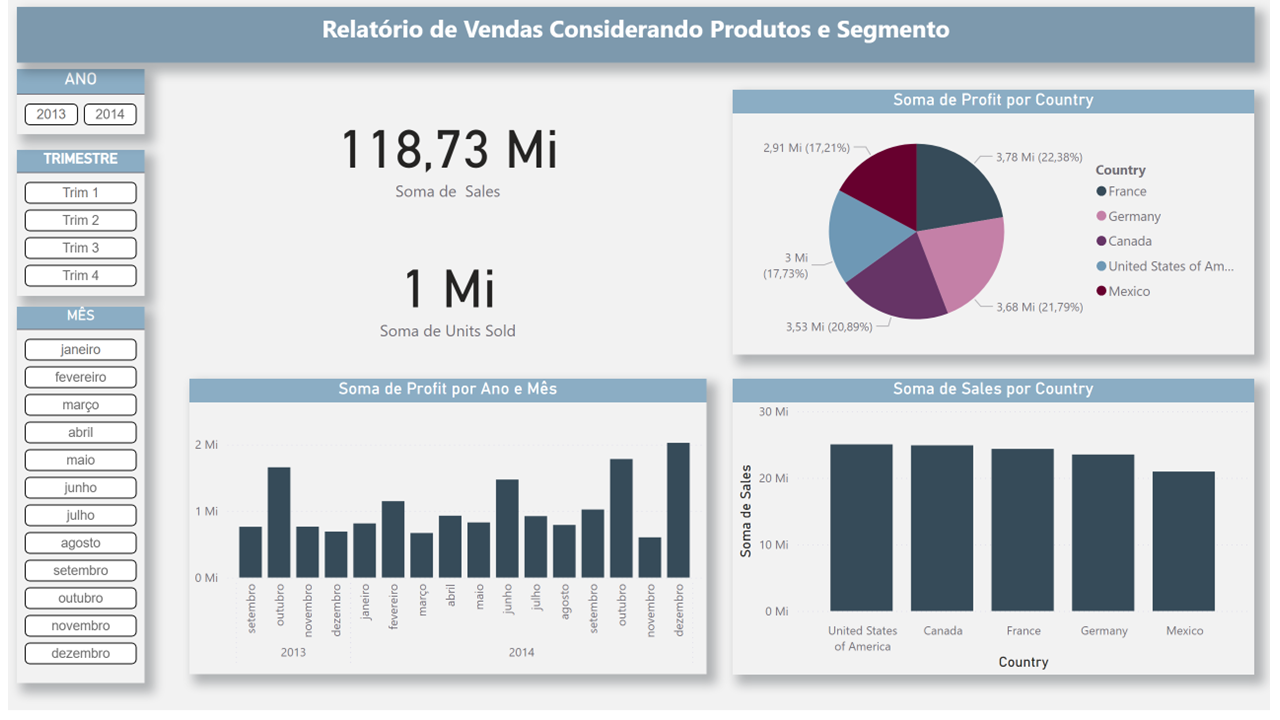

The page's visual inventory and layout, read from the dashboard file:
{"tool":"powerbi","page":{"name":"País_Lucro","canvas":[1280,720],"ordinal":1},"visuals":[{"type":"pieChart","fields":{"Category":["financials.Country"],"Y":["Sum(financials.Profit)"]},"box":[735.3,91.4,529.1,268.4],"z":0},{"type":"clusteredColumnChart","fields":{"Category":["financials.Date.Variation.Hierarquia de datas.Ano","financials.Date.Variation.Hierarquia de datas.Mês"],"Y":["Sum(financials.Profit)"]},"box":[183.8,384.2,524.3,299.6],"z":1000},{"type":"ChicletSlicer1448559807354","title":"TRIMESTRE","fields":{"Category":["financials.Date.Variation.Hierarquia de datas.Trimestre"]},"box":[8.8,151.7,129.4,147.8],"z":2000},{"type":"ChicletSlicer1448559807354","title":"MÊS","fields":{"Category":["financials.Date.Variation.Hierarquia de datas.Mês"]},"box":[8.8,311.2,129.4,381.3],"z":3000},{"type":"ChicletSlicer1448559807354","title":"ANO","fields":{"Category":["financials.Date.Variation.Hierarquia de datas.Ano"]},"box":[8.8,70,129.4,66.1],"z":4000},{"type":"textbox","box":[8.8,6.8,1255.7,56.4],"z":5000},{"type":"card","fields":{"Values":["Sum(financials. Sales)"]},"box":[183.8,91.4,524.3,127.4],"z":6000},{"type":"card","fields":{"Values":["Sum(financials.Units Sold)"]},"box":[183.8,233.4,524.3,126.4],"z":7000},{"type":"clusteredColumnChart","fields":{"Category":["financials.Country"],"Y":["Sum(financials. Sales)"]},"box":[735,384,529,300],"z":8000}]}

Visuals, with their boxes in screenshot pixels (x1, y1, x2, y2), scaled from the page's 1280x720 canvas onto the 1280x720 screenshot:
pieChart - financials.Country x Sum(financials.Profit): 735 91 1264 360
clusteredColumnChart - financials.Date.Variation.Hierarquia de datas.Ano x financials.Date.Variation.Hierarquia de datas.Mês: 184 384 708 684
"TRIMESTRE" ChicletSlicer1448559807354: 9 152 138 300
"MÊS" ChicletSlicer1448559807354: 9 311 138 692
"ANO" ChicletSlicer1448559807354: 9 70 138 136
textbox: 9 7 1264 63
card - Sum(financials. Sales): 184 91 708 219
card - Sum(financials.Units Sold): 184 233 708 360
clusteredColumnChart - financials.Country x Sum(financials. Sales): 735 384 1264 684
